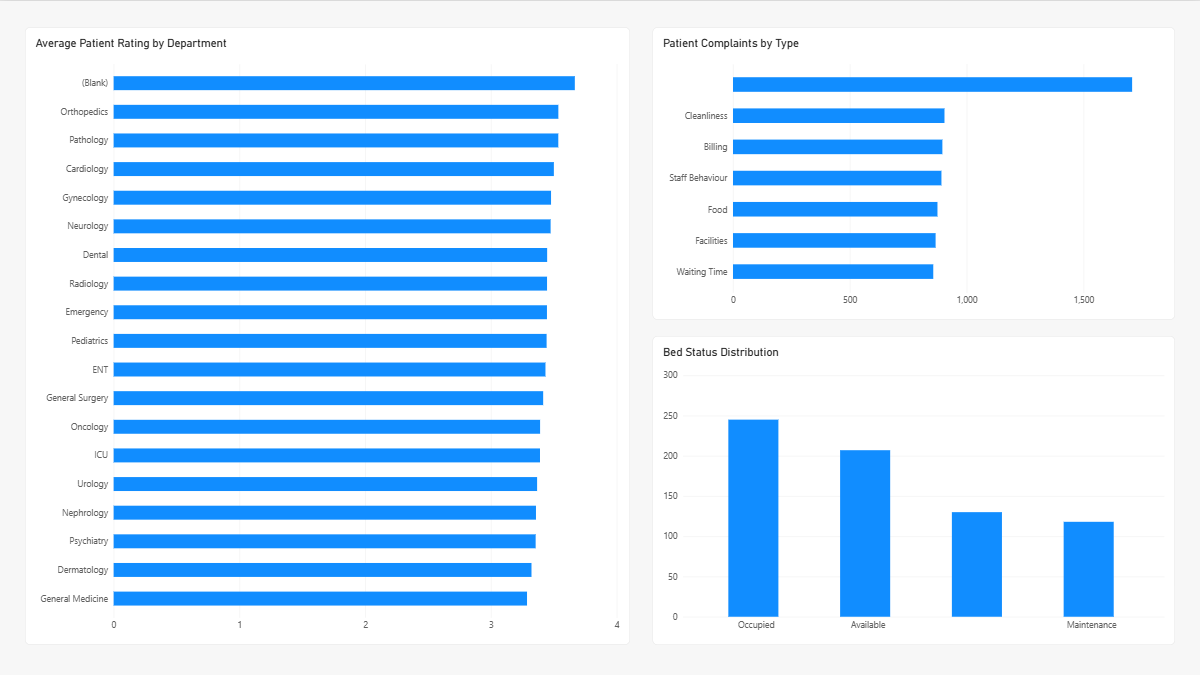

The dashboard page shown, as its layout file describes it:
{"tool":"powerbi","page":{"name":"Patient Feedback & Operations","canvas":[1920,1080],"ordinal":4},"visuals":[{"type":"clusteredBarChart","title":"Average Patient Rating by Department","fields":{"Category":["02_departments_cleaned.Department_Name"],"Y":["12_patient_feedback_cleaned.Average Patient Rating"]},"box":[40,42,968,988],"z":0},{"type":"clusteredBarChart","title":"Patient Complaints by Type","fields":{"Category":["12_patient_feedback_cleaned.Complaint_Type"],"Y":["CountNonNull(12_patient_feedback_cleaned.Feedback_ID)"]},"box":[1044,42,836,468],"z":1000},{"type":"clusteredColumnChart","title":"Bed Status Distribution","fields":{"Category":["04_beds_cleaned.Bed_Status"],"Y":["CountNonNull(04_beds_cleaned.Bed_ID)"]},"box":[1044,536,836,494],"z":2000}]}

Visuals, with their boxes in screenshot pixels (x1, y1, x2, y2), scaled from the page's 1920x1080 canvas onto the 1200x675 screenshot:
"Average Patient Rating by Department" clusteredBarChart: <box>25,26,630,644</box>
"Patient Complaints by Type" clusteredBarChart: <box>652,26,1175,319</box>
"Bed Status Distribution" clusteredColumnChart: <box>652,335,1175,644</box>
